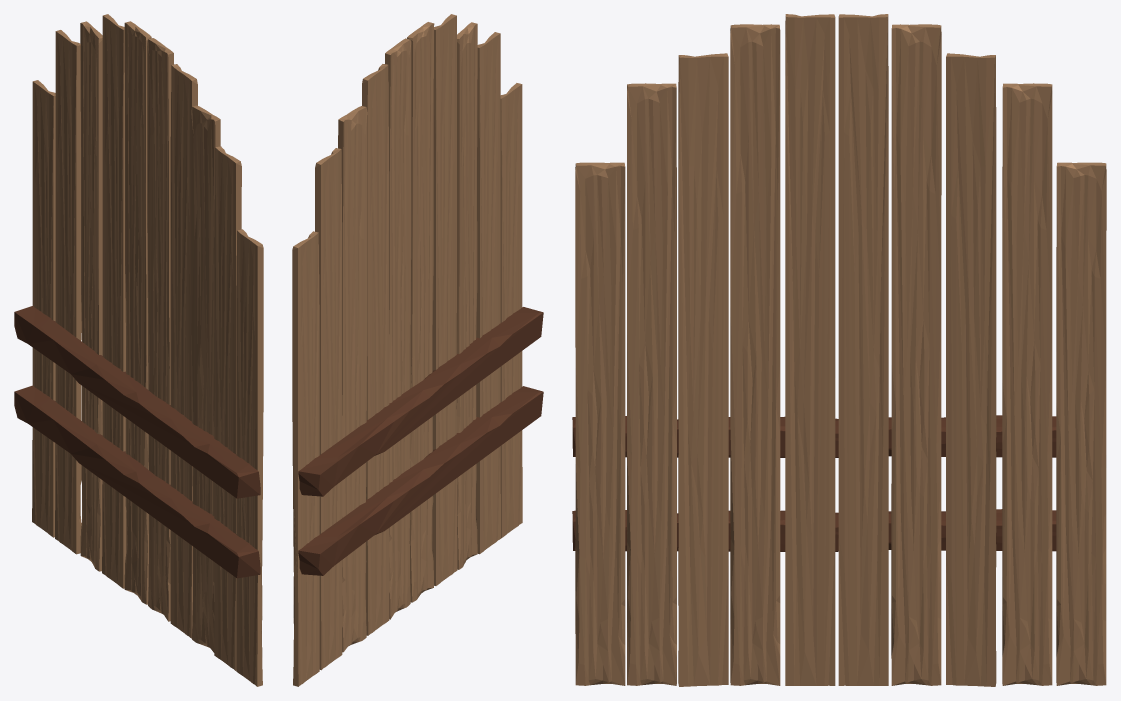
The model's file is SM_gate_wooden_01.fbx.
3 views of the same model, side by side, from view 1: azimuth 30°, elevation 25°; view 2: azimuth 150°, elevation 25°; view 3: azimuth 270°, elevation 25° (orthographic). The views are drawn at different scales.
Parts seen in each view (by area): view 1: gate_wooden_01; view 2: gate_wooden_01; view 3: gate_wooden_01.
Boxes of the visible parts, bbox=[...] form: gate_wooden_01: bbox=[14, 14, 263, 686]; gate_wooden_01: bbox=[292, 14, 543, 686]; gate_wooden_01: bbox=[572, 14, 1106, 686].
Bounding box in the file's own units: 33.4 × 651 × 471.
